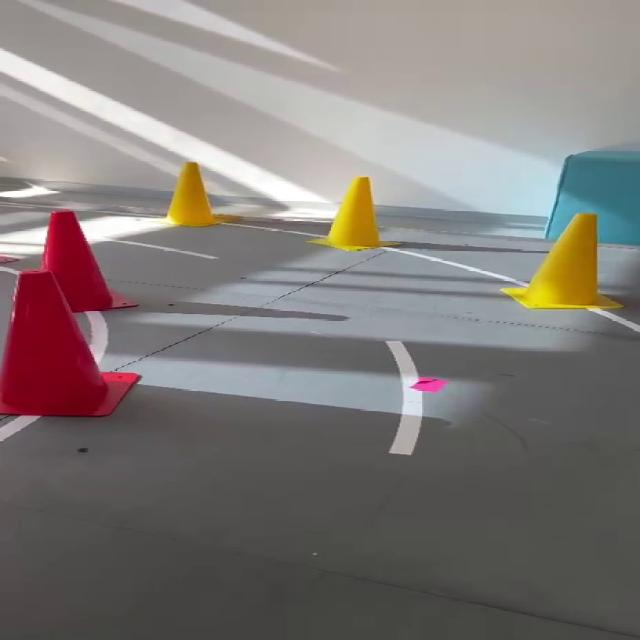Cone-red: (0, 269, 138, 416), (41, 211, 135, 312)
Cones-yellow: (502, 213, 619, 308), (309, 177, 390, 250), (167, 162, 240, 226)
